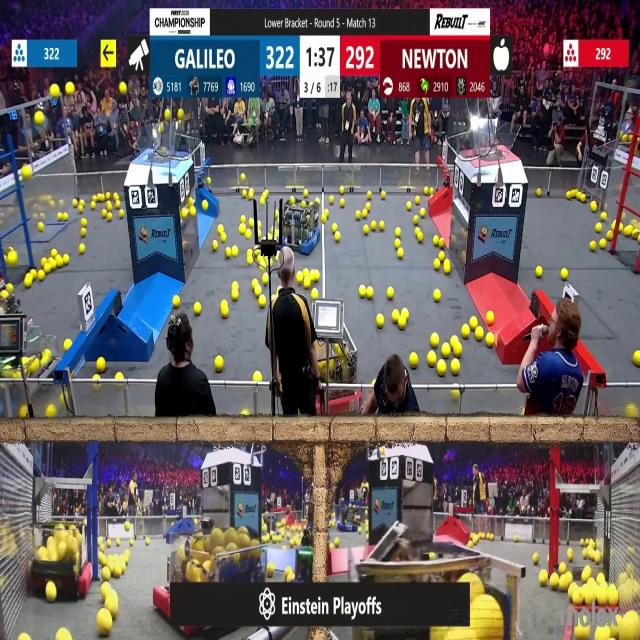ball_airborne: (35, 112, 44, 125), (52, 84, 61, 97), (118, 84, 126, 97), (23, 166, 31, 179), (67, 84, 75, 97), (165, 110, 172, 120), (178, 109, 184, 120), (160, 126, 165, 134)
ball_ground: (97, 613, 110, 638), (45, 585, 56, 603), (574, 627, 588, 640), (438, 360, 448, 375), (214, 355, 223, 371), (550, 574, 559, 590), (627, 406, 637, 419), (58, 630, 71, 640), (411, 352, 419, 368), (451, 359, 460, 373), (7, 252, 16, 266), (538, 570, 546, 585), (595, 629, 607, 639), (453, 345, 462, 358), (98, 357, 106, 371), (377, 314, 385, 328), (461, 324, 469, 338), (443, 344, 451, 358), (46, 407, 55, 419), (113, 565, 122, 577), (486, 335, 494, 348), (430, 335, 438, 348), (486, 312, 494, 325), (428, 352, 436, 365), (220, 306, 228, 319), (433, 288, 440, 302), (64, 340, 72, 352), (102, 568, 110, 580), (193, 303, 200, 316), (475, 327, 482, 340), (19, 408, 26, 421), (468, 317, 476, 328), (387, 287, 394, 299), (258, 295, 265, 307), (365, 287, 372, 299), (26, 276, 33, 288), (398, 318, 405, 330), (173, 295, 180, 307), (634, 351, 640, 365), (295, 273, 302, 285), (102, 584, 109, 596), (253, 372, 261, 382), (452, 390, 460, 400), (269, 563, 275, 576), (254, 285, 261, 296), (263, 275, 270, 286), (445, 263, 451, 275), (392, 311, 398, 323), (359, 285, 365, 297), (451, 337, 459, 346), (560, 562, 566, 574), (561, 270, 568, 280), (535, 268, 542, 278), (37, 271, 44, 281), (286, 571, 293, 581), (591, 203, 598, 213), (57, 256, 64, 266), (118, 370, 125, 380), (188, 208, 195, 218), (181, 208, 188, 218), (120, 554, 127, 564), (312, 288, 318, 299), (305, 278, 311, 289), (434, 261, 440, 272), (314, 271, 320, 282), (567, 551, 573, 562), (532, 554, 538, 565), (400, 310, 408, 318), (577, 192, 584, 201), (625, 229, 632, 238), (363, 224, 369, 234), (78, 244, 84, 254), (248, 255, 254, 265), (233, 246, 239, 256), (233, 290, 239, 300), (224, 248, 230, 258), (590, 242, 596, 252), (336, 233, 342, 243), (370, 220, 376, 230), (106, 202, 112, 212), (397, 248, 403, 258), (203, 201, 209, 211), (432, 237, 438, 247), (18, 634, 28, 640), (99, 554, 105, 564), (213, 238, 218, 249), (600, 240, 606, 249), (420, 208, 426, 217), (596, 222, 602, 231), (233, 281, 239, 290), (395, 229, 401, 238), (248, 218, 254, 227), (38, 222, 44, 231), (440, 239, 446, 248), (413, 215, 419, 224), (188, 198, 194, 207), (31, 271, 37, 280), (256, 254, 262, 263), (380, 220, 385, 230), (418, 233, 423, 243), (64, 254, 69, 264), (607, 232, 612, 242), (240, 223, 245, 233), (242, 411, 249, 418), (331, 222, 337, 230), (394, 240, 400, 248), (252, 280, 258, 288), (217, 224, 223, 232), (80, 218, 86, 226), (220, 235, 226, 243), (246, 232, 252, 240), (256, 231, 262, 239), (72, 200, 78, 208), (440, 252, 446, 260), (44, 266, 50, 274), (123, 522, 129, 530), (365, 203, 371, 211), (264, 190, 270, 198), (100, 542, 106, 550), (48, 256, 54, 264), (356, 211, 361, 220), (107, 212, 112, 221), (536, 187, 541, 196), (80, 229, 85, 238), (601, 212, 606, 221), (336, 537, 341, 546), (248, 189, 253, 198), (366, 190, 371, 199), (304, 270, 310, 277), (63, 213, 69, 220), (254, 249, 260, 256), (98, 193, 104, 200), (467, 540, 473, 547), (341, 200, 346, 208), (51, 249, 56, 257), (92, 202, 97, 210), (115, 201, 120, 209), (408, 203, 413, 211), (241, 215, 246, 223), (113, 191, 118, 199), (259, 199, 264, 207), (115, 537, 120, 545), (118, 210, 123, 218), (362, 210, 367, 218), (242, 190, 247, 198), (381, 190, 386, 198), (41, 256, 46, 264), (78, 206, 83, 214), (566, 194, 571, 202), (58, 212, 63, 220), (107, 539, 112, 547), (241, 174, 246, 182), (584, 618, 589, 626), (258, 267, 264, 273), (356, 528, 362, 534), (321, 215, 326, 222), (328, 198, 333, 205), (269, 234, 274, 241), (341, 186, 346, 193), (93, 194, 98, 201), (207, 178, 212, 185), (146, 537, 150, 545), (100, 210, 104, 218), (416, 197, 420, 205), (276, 210, 280, 218), (276, 231, 280, 239), (620, 224, 624, 232), (131, 538, 135, 545), (257, 220, 261, 227), (106, 192, 110, 199), (515, 535, 519, 542), (324, 209, 328, 216), (424, 187, 428, 194), (79, 201, 83, 208), (248, 249, 252, 255), (99, 536, 102, 543)
goal: (464, 121, 520, 160), (128, 128, 190, 160)
robot_blue: (278, 194, 320, 253), (0, 279, 24, 360), (338, 507, 362, 532)
robot_red: (159, 526, 267, 636), (33, 517, 96, 599), (313, 324, 364, 412)
